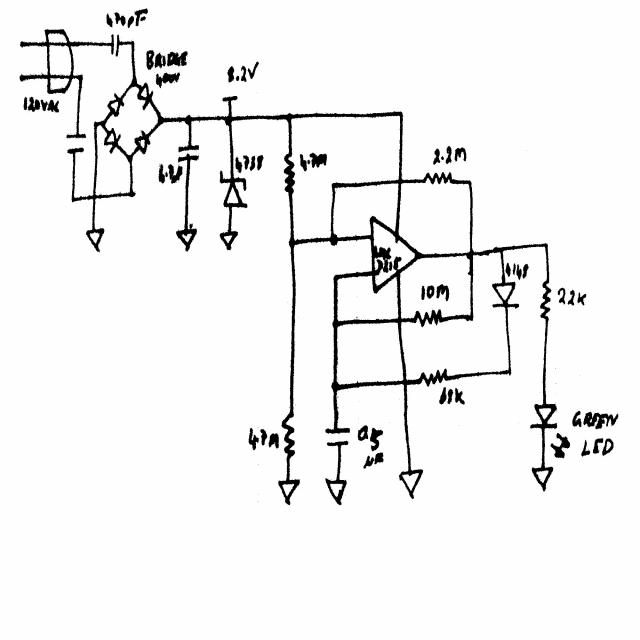capacitor: (323, 426, 351, 449), (64, 133, 87, 157), (178, 145, 201, 163), (110, 34, 120, 57)
crossover: (400, 377, 410, 387), (395, 176, 405, 185), (396, 316, 404, 325), (91, 193, 98, 202)
diode: (529, 404, 571, 459), (219, 171, 248, 209), (491, 282, 522, 309), (136, 81, 155, 112), (103, 128, 121, 154), (107, 93, 125, 118), (134, 130, 152, 154)
ground: (398, 468, 424, 500), (324, 476, 348, 507), (277, 479, 300, 508), (176, 227, 199, 251), (532, 466, 554, 491), (85, 227, 106, 252), (218, 229, 240, 250)
junction: (224, 114, 234, 127), (329, 234, 339, 247), (330, 380, 340, 391), (467, 249, 477, 260), (496, 244, 506, 254), (285, 113, 294, 124), (287, 237, 296, 248), (157, 114, 165, 125), (185, 115, 193, 125), (128, 189, 136, 199), (332, 319, 340, 329), (541, 240, 549, 250), (130, 78, 137, 89), (506, 367, 513, 377), (468, 314, 476, 322), (76, 74, 83, 82), (332, 273, 339, 281), (92, 121, 99, 129), (127, 154, 133, 163), (398, 110, 404, 119), (467, 180, 474, 187), (70, 196, 76, 204), (130, 39, 136, 47), (100, 119, 106, 127), (331, 182, 337, 189)
resistor: (282, 412, 298, 460), (419, 367, 449, 387), (413, 309, 444, 327), (284, 153, 297, 195), (539, 279, 552, 320), (424, 171, 453, 186)
terminal: (222, 94, 237, 104), (16, 73, 26, 84), (16, 40, 26, 50)
text: (356, 422, 385, 471), (105, 7, 148, 30), (374, 244, 402, 277), (572, 411, 619, 430), (146, 50, 188, 70), (22, 96, 62, 116), (247, 427, 280, 451), (227, 61, 259, 84), (432, 145, 467, 166), (557, 286, 589, 308), (439, 385, 468, 407), (581, 437, 614, 456), (421, 283, 450, 302), (235, 155, 264, 173), (300, 153, 328, 171), (158, 164, 183, 184), (505, 262, 531, 280), (156, 72, 180, 88)
